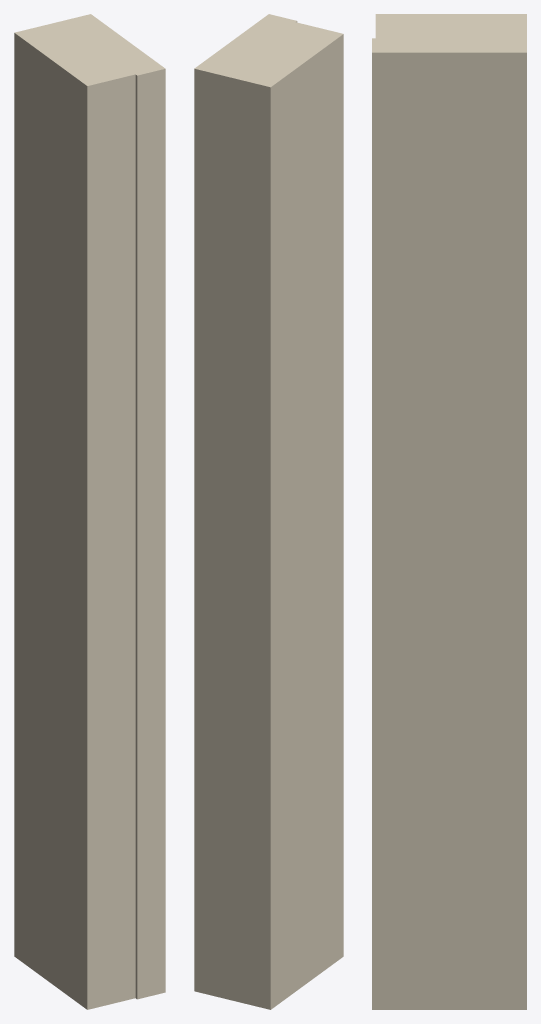
3 renders of one model, left to right at view 1: azimuth 30°, elevation 25°; view 2: azimuth 150°, elevation 25°; view 3: azimuth 270°, elevation 25°, orthographic. The views are drawn at different scales.
Visible parts, largest first — view 1: A-FF-WALL-030; view 2: A-FF-WALL-030; view 3: A-FF-WALL-030.
Part boxes in pixels (left/top/right/bottom): A-FF-WALL-030: left=14, top=14, right=165, bottom=1009; A-FF-WALL-030: left=194, top=14, right=343, bottom=1009; A-FF-WALL-030: left=372, top=14, right=526, bottom=1009.
Bounding box in the file's own units: 0.21 × 2.42 × 0.355.
